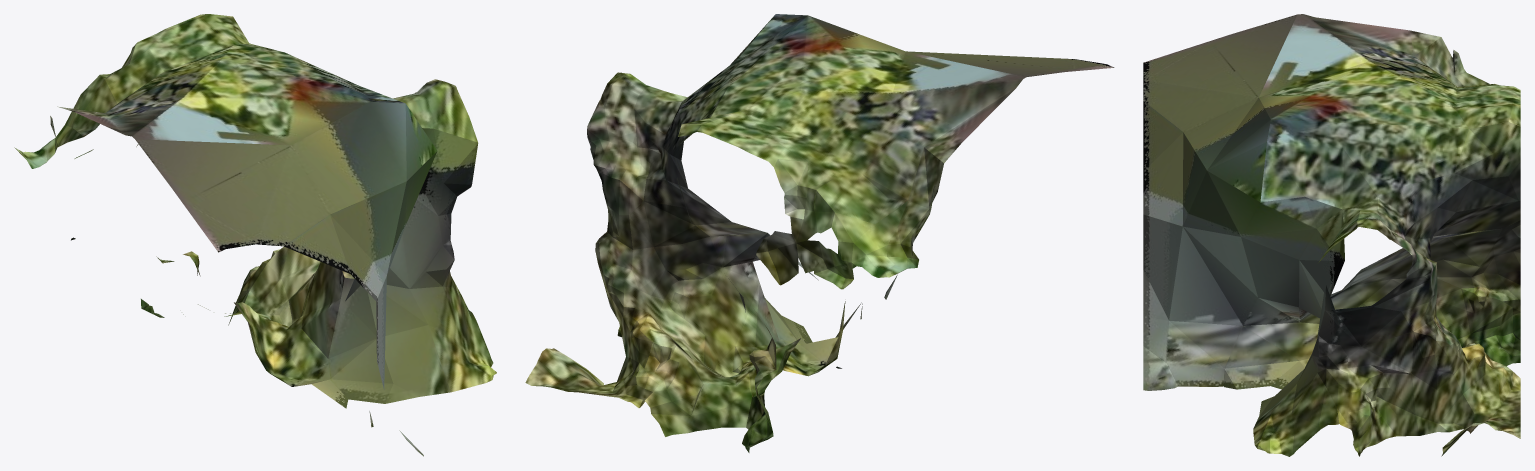
3 renders of one model, left to right at view 1: azimuth 30°, elevation 25°; view 2: azimuth 150°, elevation 25°; view 3: azimuth 270°, elevation 25°, orthographic. The views are drawn at different scales.
Bounding box in the file's own units: 1.67 × 1.39 × 1.67.
Materials: 5 (5 with a texture image).
